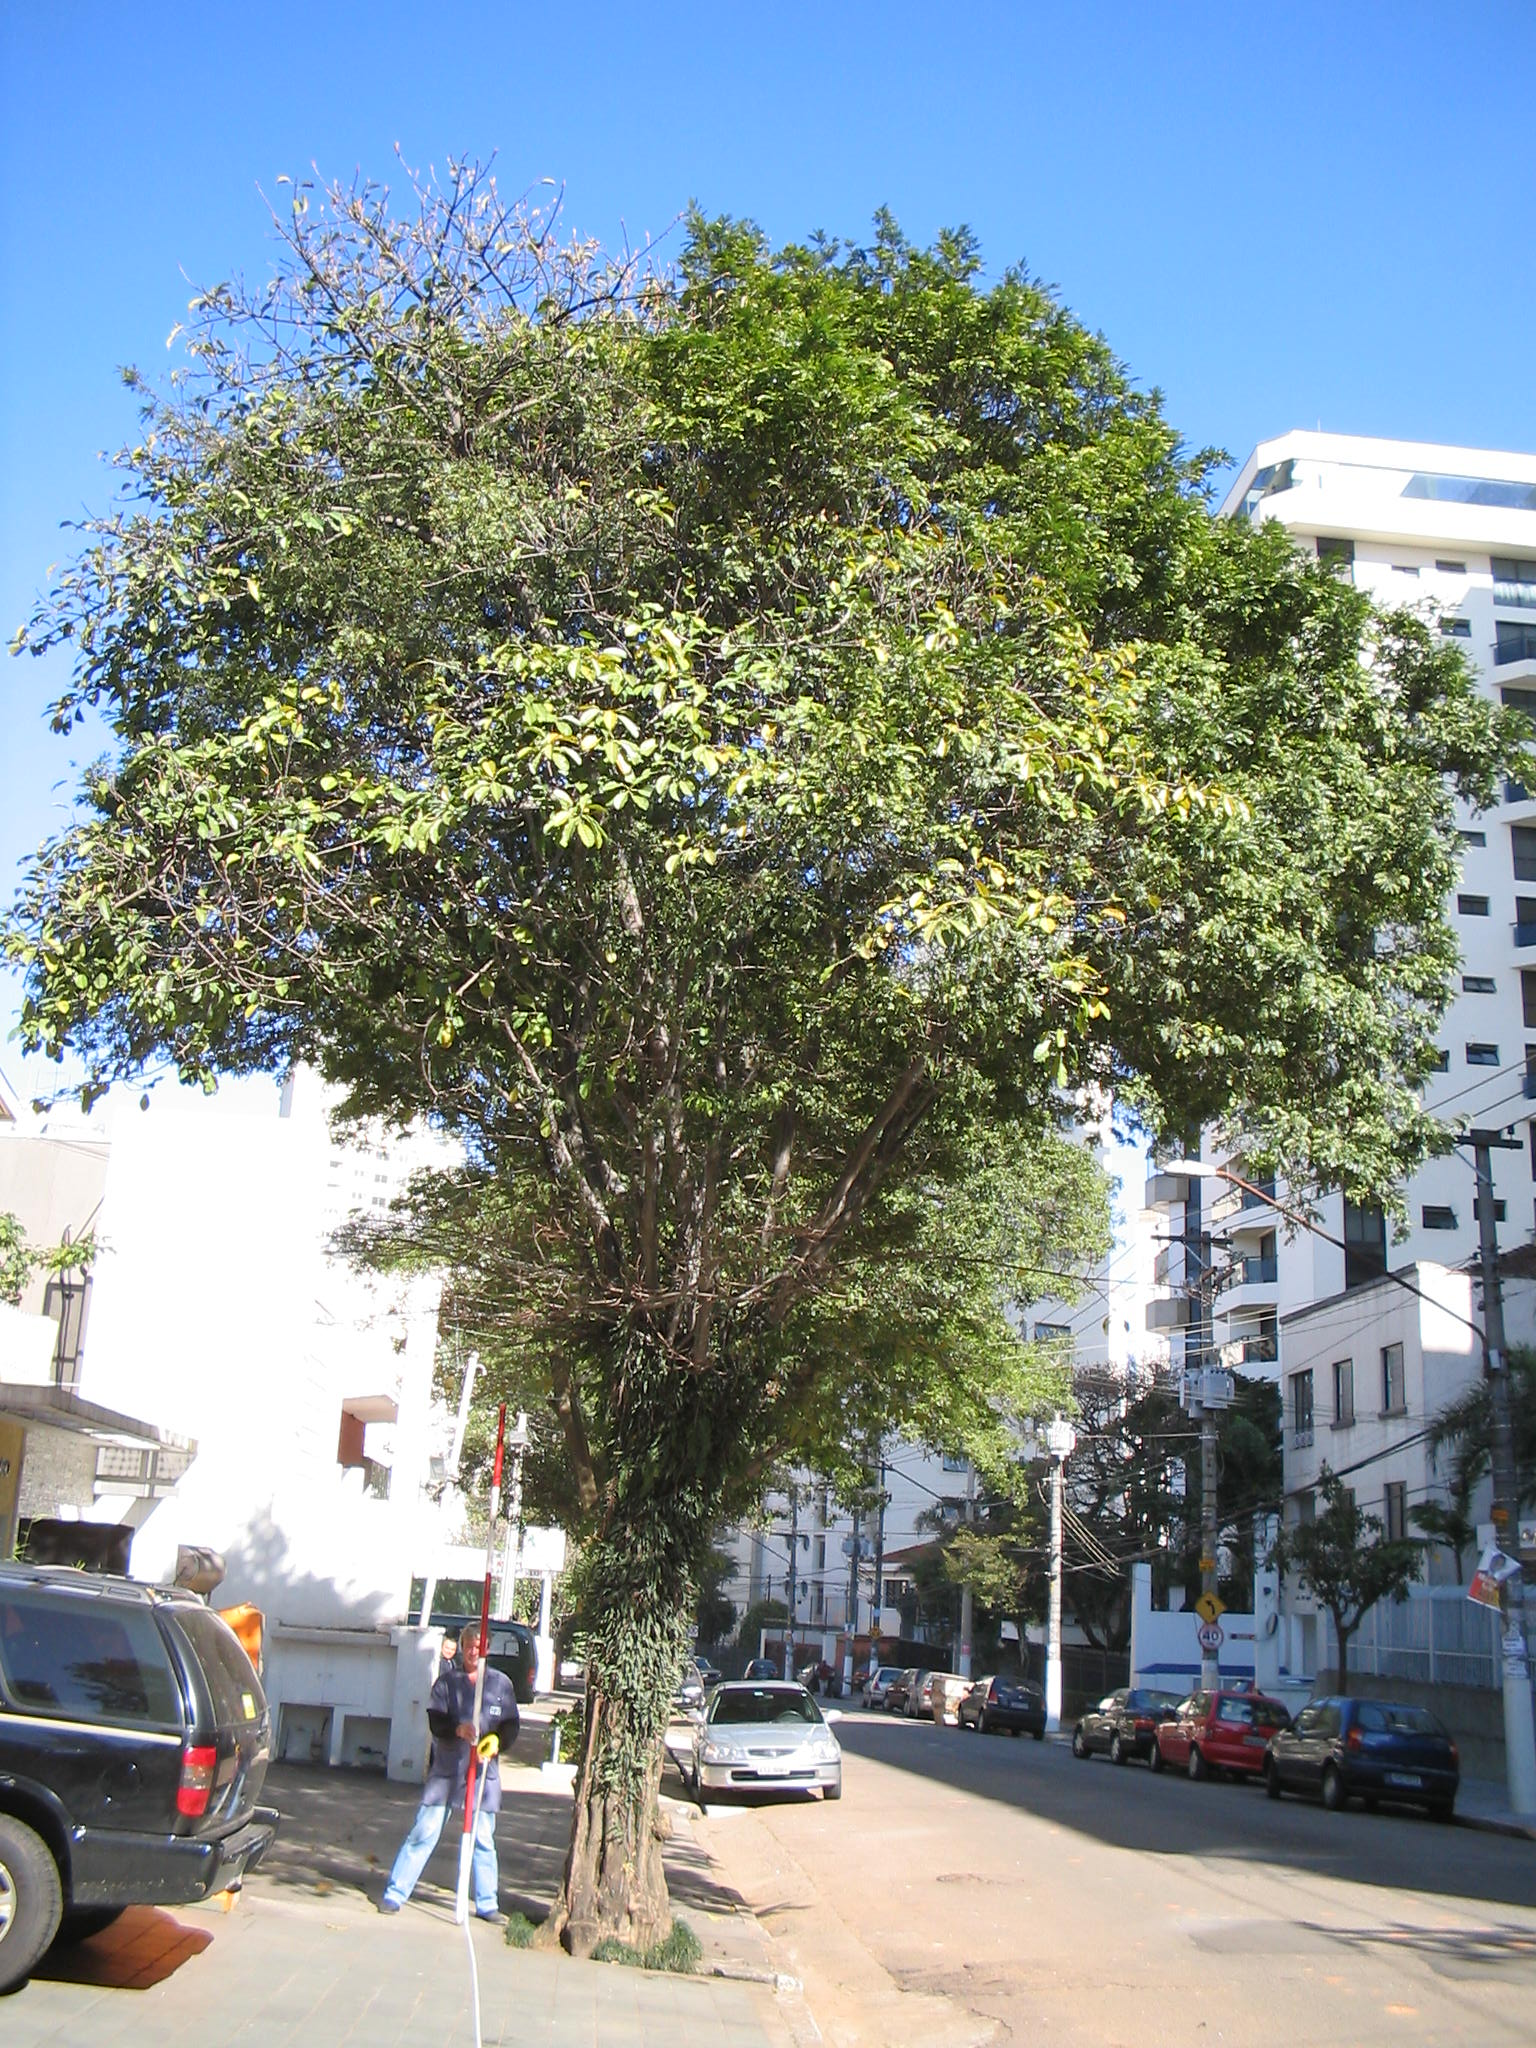crown: (15, 158, 1536, 1177)
stem: (508, 1526, 741, 1966)
stick: (436, 1405, 524, 1921)
tree: (6, 153, 1536, 1975)
